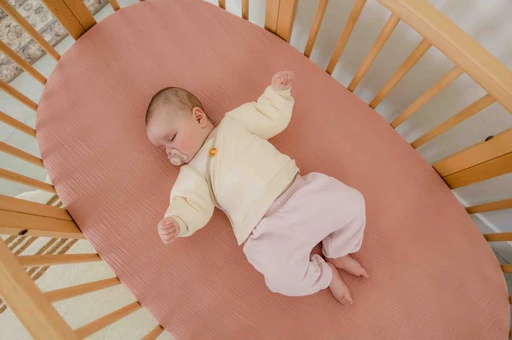baby: (146, 72, 367, 303)
crib: (348, 0, 511, 147)
